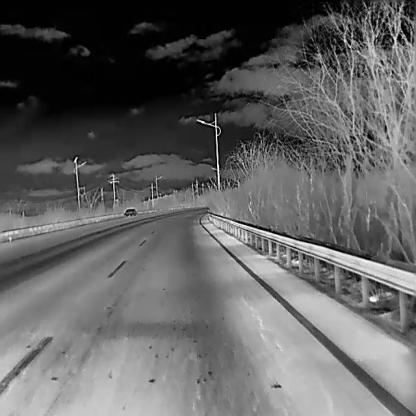car: (123, 207, 136, 217)
